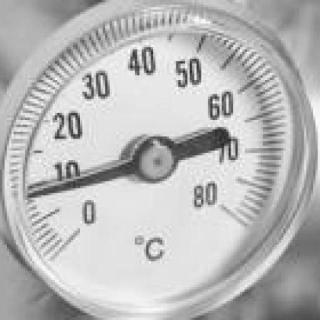gauge: (0, 0, 320, 320), (50, 198, 116, 262), (133, 135, 179, 187), (209, 189, 248, 239), (17, 189, 34, 205)
